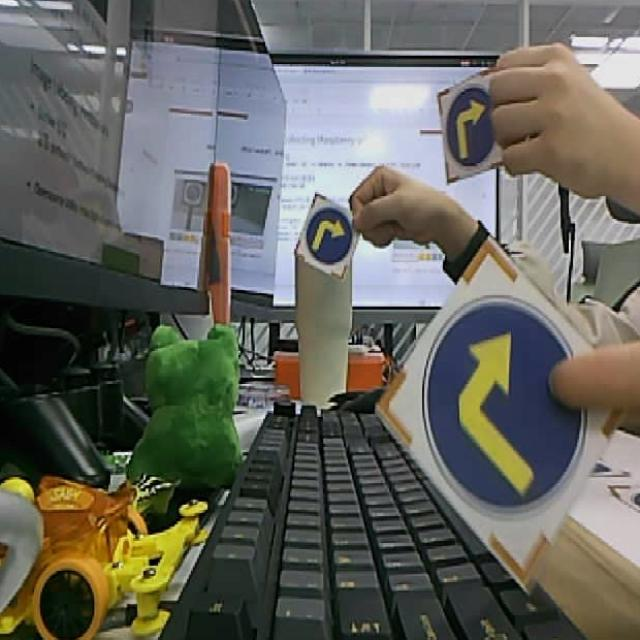turn: (375, 235, 636, 590), (431, 69, 515, 182), (292, 191, 365, 279)
